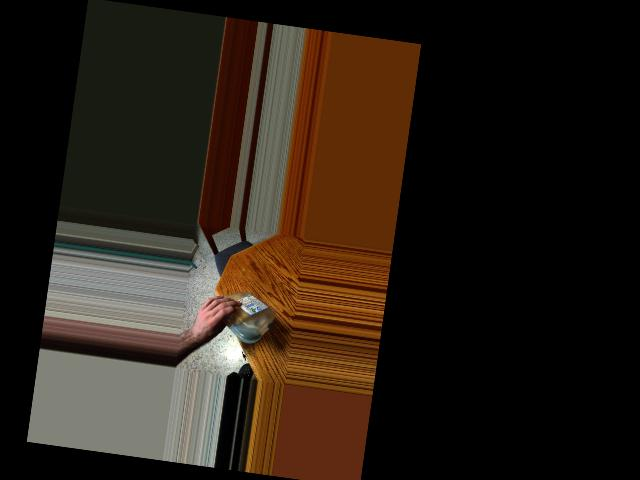cheese: (208, 284, 280, 345)
